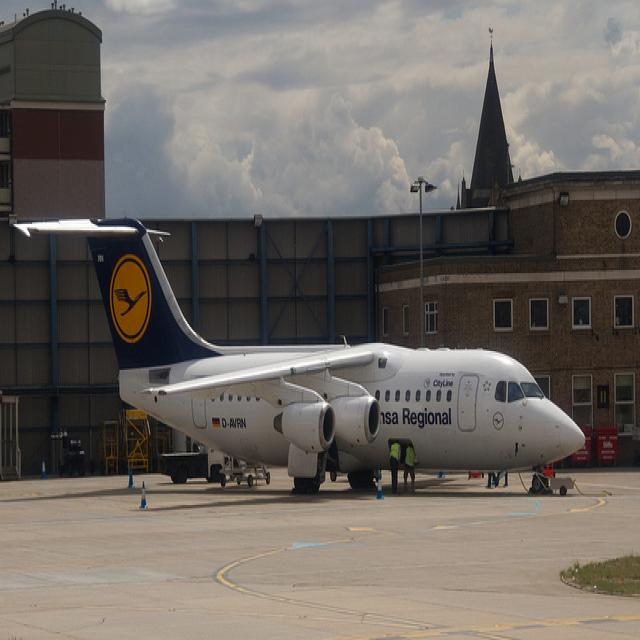Vehicle: (158, 445, 225, 484)
